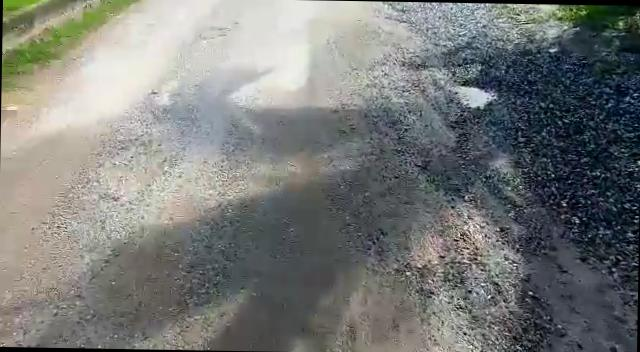pothole: (454, 82, 496, 112)
